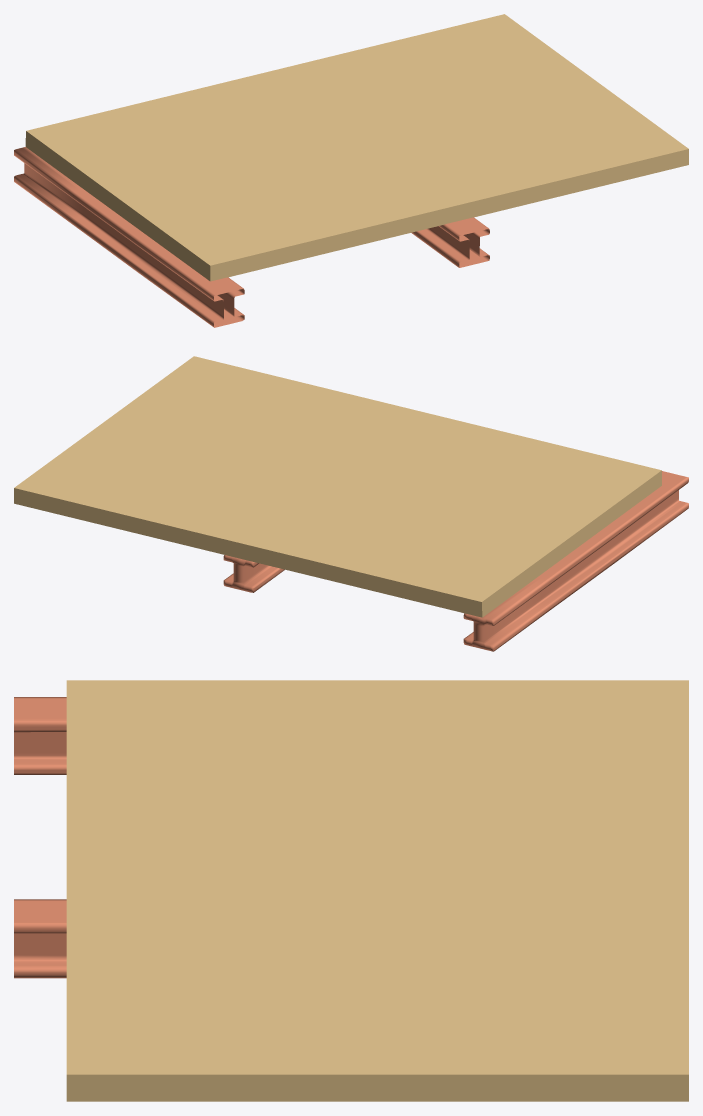
File: Industrial_New_Beams_2_Floor.fbx
3 views of the same model, one above another, from view 1: azimuth 30°, elevation 25°; view 2: azimuth 150°, elevation 25°; view 3: azimuth 270°, elevation 25° (orthographic). The views are drawn at different scales.
Visible parts, largest first — view 1: NurbsPath.028; view 2: NurbsPath.028; view 3: NurbsPath.028.
Boxes of the visible parts, bbox=[...] form: NurbsPath.028: bbox=[14, 14, 688, 327]; NurbsPath.028: bbox=[14, 356, 688, 651]; NurbsPath.028: bbox=[14, 680, 688, 1101].
Size of the model in its own units: 400 by 37.34 by 282.
